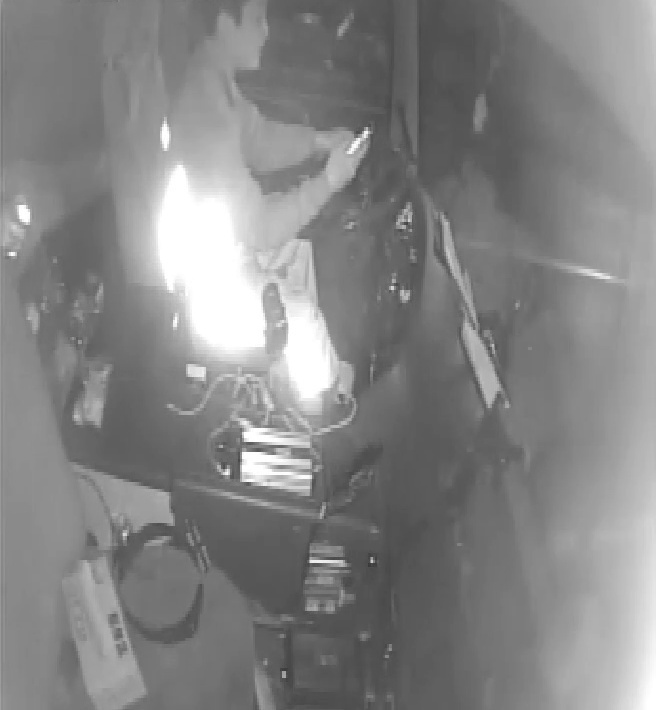cellphone: (334, 119, 375, 162)
